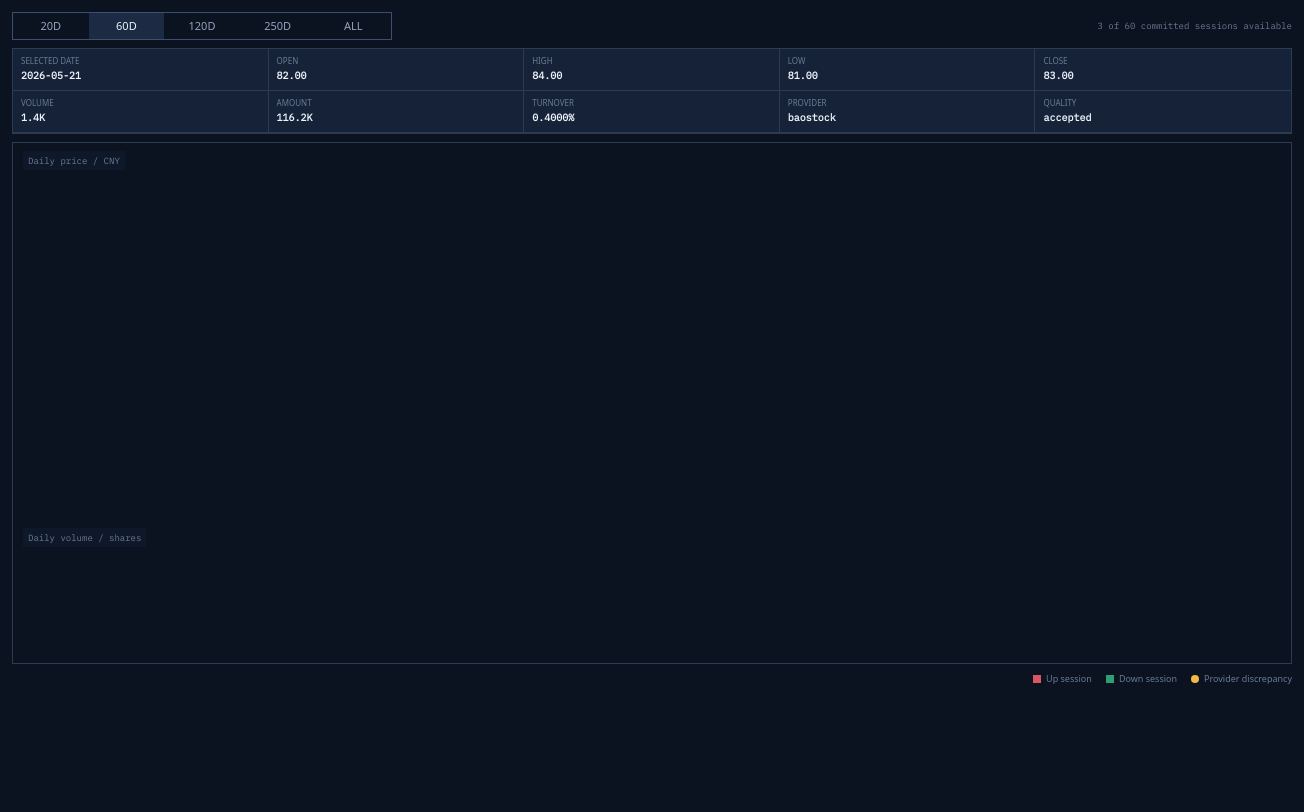
Test case: price and volume chart › renders candles and volume in separate panes with an OHLCV tooltip
The image size is (1304, 812).
Expected: the text "2026-05-21" is shown, [21,69,81,82]
Expected: the text "Volume" is shown, [21,97,54,108]
Click the button "250D" at (278, 26), box [240,13,315,39]
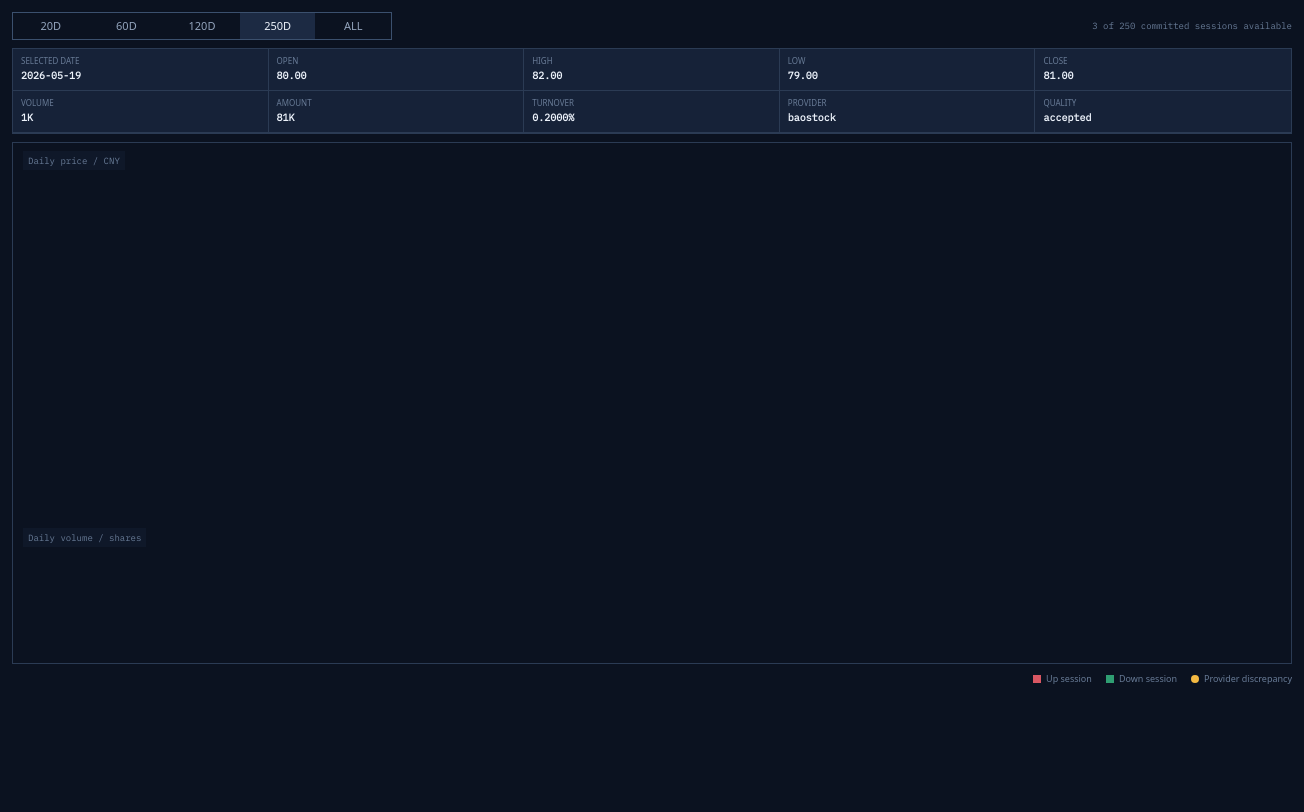
Result: the text "3 of 250 committed sessions available" is shown at [1092,20,1292,32]
Result: the text "2026-05-19" is shown at [21,69,81,82]
